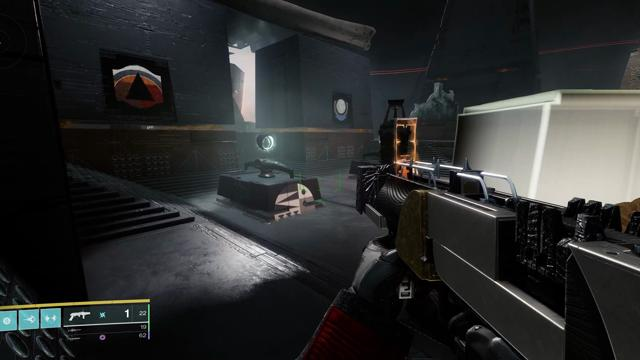pyramid: (112, 65, 163, 109)
traveler: (334, 98, 348, 121)
